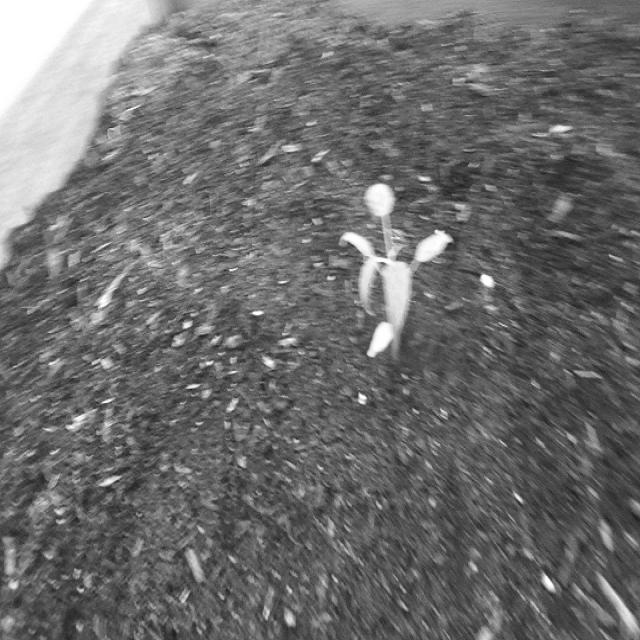Healthy: (338, 177, 454, 371)
